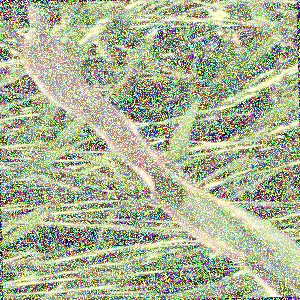Leaf_Blast: (148, 160, 293, 298)
